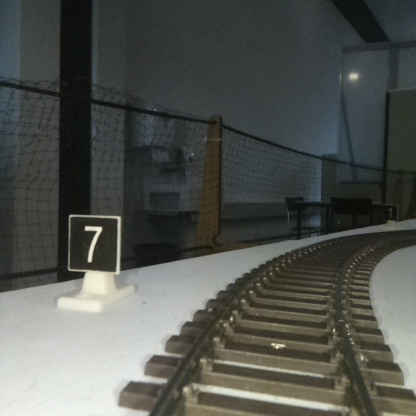black-stop-1: (383, 203, 397, 227)
black-stop-7: (69, 218, 117, 306)
